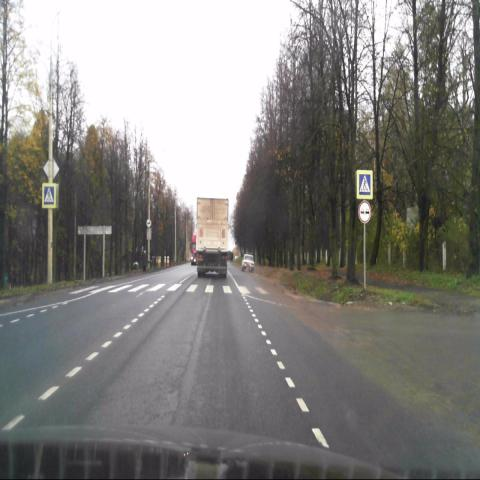3_20: (358, 200, 371, 223)
